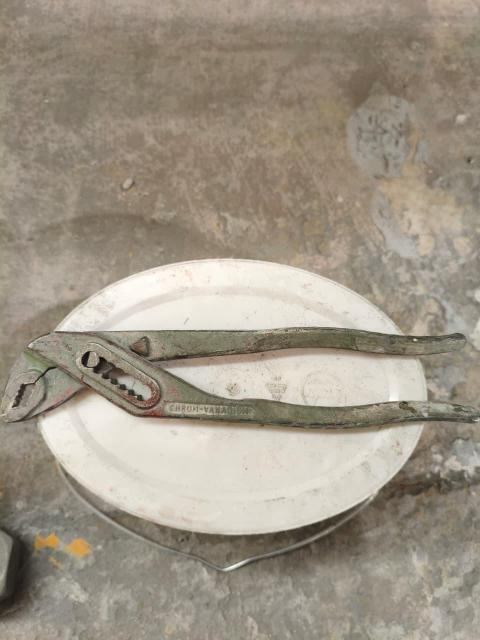Metal: (6, 305, 480, 460), (0, 517, 22, 612)
